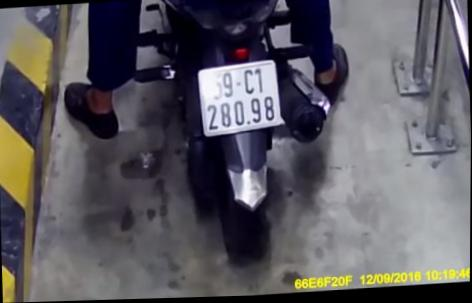LP: (198, 60, 283, 140)
